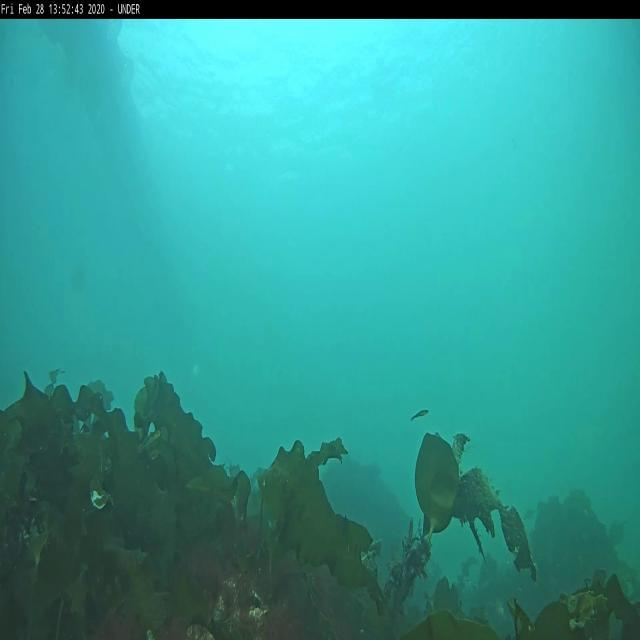fish: (411, 408, 428, 421)
